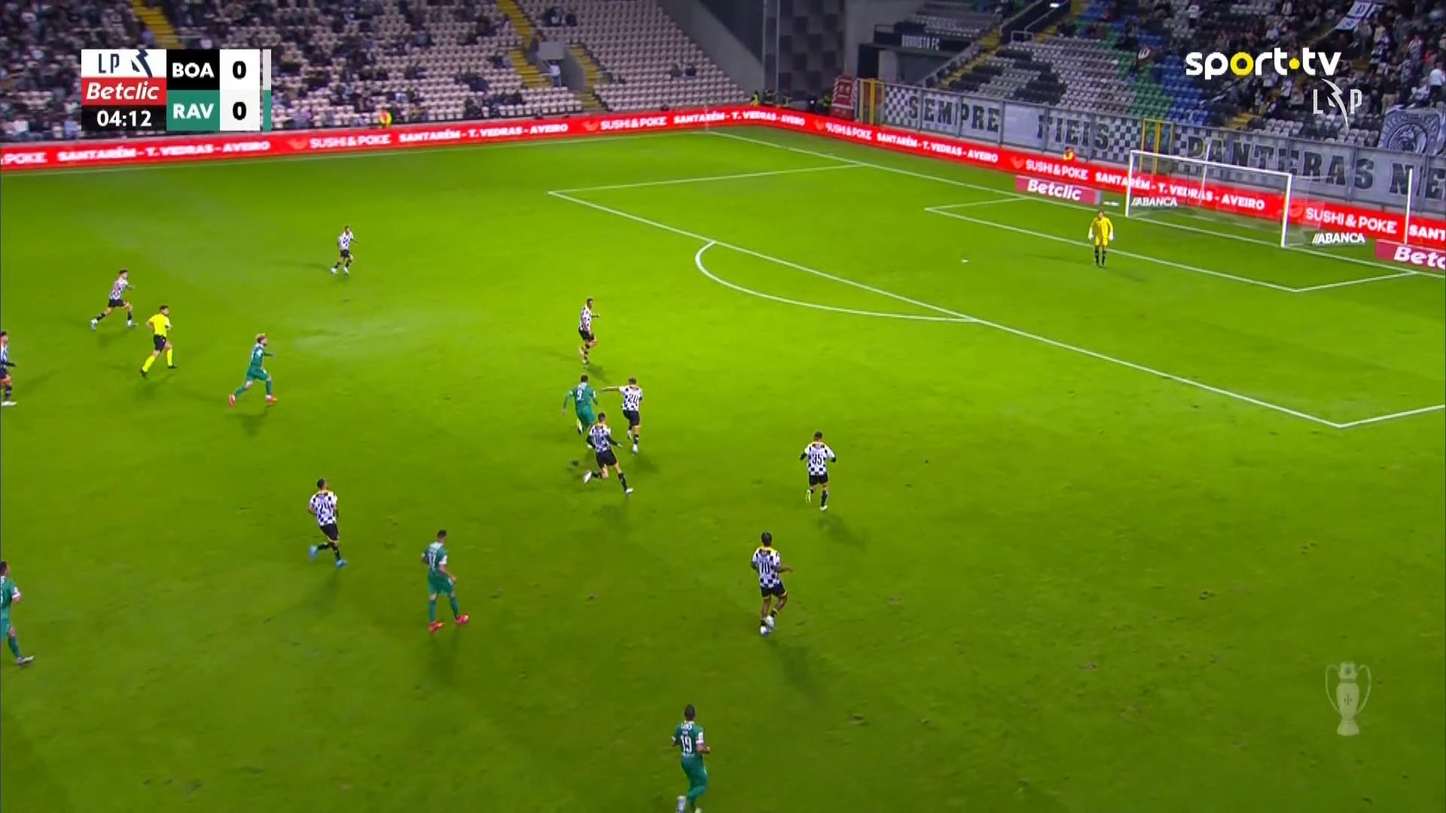ball: (10, 586, 21, 601)
goalkeeper: (1087, 209, 1114, 267)
player: (420, 528, 469, 632), (749, 531, 793, 635), (670, 703, 710, 811), (582, 411, 633, 495), (227, 332, 277, 407), (0, 559, 35, 665), (307, 477, 347, 568), (600, 376, 644, 452), (798, 430, 837, 511), (89, 267, 137, 330), (560, 373, 598, 435), (576, 297, 600, 365), (329, 224, 357, 276), (0, 330, 17, 406)
referee: (139, 304, 177, 378)
